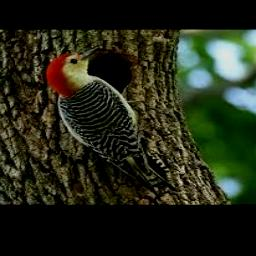Woodpecker: (46, 47, 181, 200)
